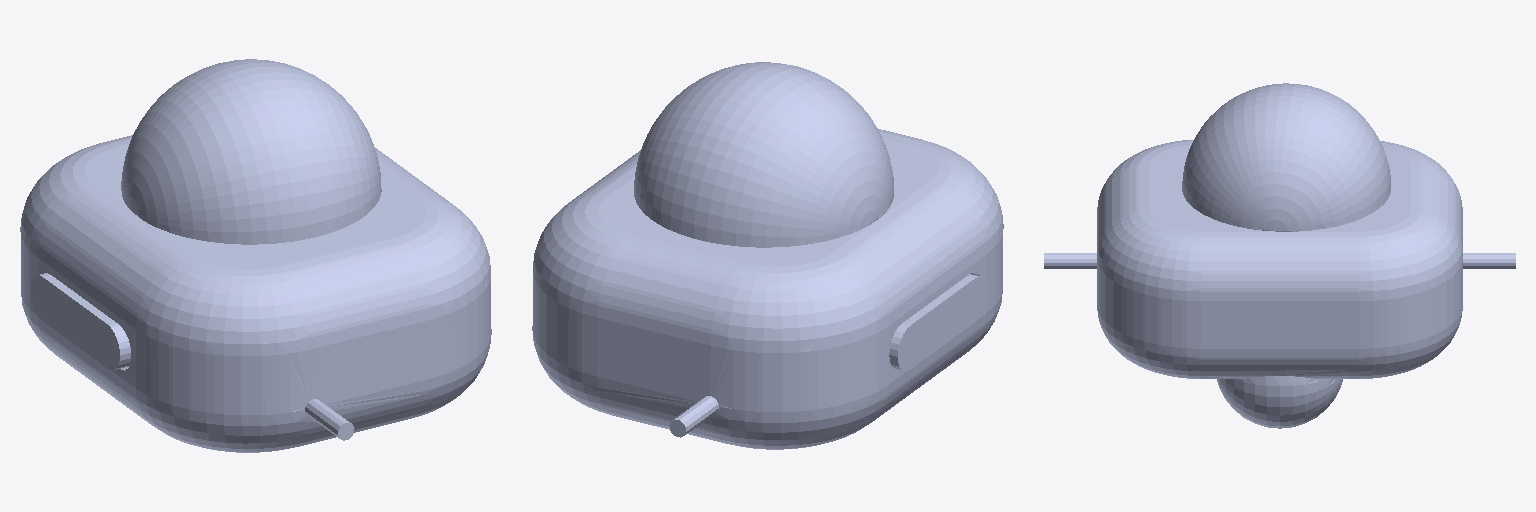
The robot description file, URDF, robot "mark_fbj4":
<?xml version="1.0" encoding="utf-8"?>
<!-- This URDF was automatically created by SolidWorks to URDF Exporter! Originally created by [author] ([email redacted]) 
     Commit Version: 1.6.0-4-g7f85cfe  Build Version: 1.6.7995.38578
     For more information, please see http://wiki.ros.org/sw_urdf_exporter -->
<robot
  name="mark_fbj4">
  <link
    name="base_link">
    <inertial>
      <origin
        xyz="-0.00238348665372786 -0.125000000553057 0.0212109386462722"
        rpy="0 0 0" />
      <mass
        value="0.884228515493409" />
      <inertia
        ixx="0.00144829165350996"
        ixy="1.60519492993308E-10"
        ixz="3.5912954700143E-05"
        iyy="0.0011482128838577"
        iyz="1.93591518860625E-11"
        izz="0.00203715547793105" />
    </inertial>
    <visual>
      <origin
        xyz="0 0 0"
        rpy="0 0 0" />
      <geometry>
        <mesh
          filename="package://mark_fbj4/meshes/base_link.STL" />
      </geometry>
      <material
        name="">
        <color
          rgba="0.792156862745098 0.819607843137255 0.933333333333333 1" />
      </material>
    </visual>
    <collision>
      <origin
        xyz="0 0 0"
        rpy="0 0 0" />
      <geometry>
        <mesh
          filename="package://mark_fbj4/meshes/base_link.STL" />
      </geometry>
    </collision>
  </link>
  <link
    name="right_wheel">
    <inertial>
      <origin
        xyz="1.38777878078145E-17 1.73472347597681E-18 -0.01"
        rpy="0 0 0" />
      <mass
        value="0.0999654782372272" />
      <inertia
        ixx="4.35432962288322E-05"
        ixy="-2.6386211656956E-37"
        ixz="-4.41162993361574E-24"
        iyy="4.35432962288322E-05"
        iyz="-4.59177480789955E-38"
        izz="8.04222272418493E-05" />
    </inertial>
    <visual>
      <origin
        xyz="0 0 0"
        rpy="0 0 0" />
      <geometry>
        <mesh
          filename="package://mark_fbj4/meshes/right_wheel.STL" />
      </geometry>
      <material
        name="">
        <color
          rgba="0.792156862745098 0.819607843137255 0.933333333333333 1" />
      </material>
    </visual>
    <collision>
      <origin
        xyz="0 0 0"
        rpy="0 0 0" />
      <geometry>
        <mesh
          filename="package://mark_fbj4/meshes/right_wheel.STL" />
      </geometry>
    </collision>
  </link>
  <joint
    name="right_wheel_joint"
    type="continuous">
    <origin
      xyz="-0.023709 -0.055 0.01262"
      rpy="1.5708 0 0" />
    <parent
      link="base_link" />
    <child
      link="right_wheel" />
    <axis
      xyz="0 0 1" />
  </joint>
  <link
    name="left_wheel">
    <inertial>
      <origin
        xyz="-3.46944695195361E-18 1.73472347597681E-18 0.00999999999999995"
        rpy="0 0 0" />
      <mass
        value="0.0999654782372272" />
      <inertia
        ixx="4.35432962288322E-05"
        ixy="-2.6386211656956E-37"
        ixz="5.60277001569247E-22"
        iyy="4.35432962288322E-05"
        iyz="-9.18354961579919E-38"
        izz="8.04222272418493E-05" />
    </inertial>
    <visual>
      <origin
        xyz="0 0 0"
        rpy="0 0 0" />
      <geometry>
        <mesh
          filename="package://mark_fbj4/meshes/left_wheel.STL" />
      </geometry>
      <material
        name="">
        <color
          rgba="0.792156862745098 0.819607843137255 0.933333333333333 1" />
      </material>
    </visual>
    <collision>
      <origin
        xyz="0 0 0"
        rpy="0 0 0" />
      <geometry>
        <mesh
          filename="package://mark_fbj4/meshes/left_wheel.STL" />
      </geometry>
    </collision>
  </link>
  <joint
    name="left_wheel_joint"
    type="continuous">
    <origin
      xyz="-0.023709 -0.195 0.01262"
      rpy="1.5708 0 0" />
    <parent
      link="base_link" />
    <child
      link="left_wheel" />
    <axis
      xyz="0 0 1" />
  </joint>
  <link
    name="sensor_link">
    <inertial>
      <origin
        xyz="0.034608 -0.040588 0.017736"
        rpy="0 0 0" />
      <mass
        value="0.077493" />
      <inertia
        ixx="4.1051E-05"
        ixy="-6.7763E-21"
        ixz="7.9302E-21"
        iyy="4.1051E-05"
        iyz="1.8696E-19"
        izz="6.5429E-05" />
    </inertial>
    <visual>
      <origin
        xyz="0 0 0"
        rpy="0 0 0" />
      <geometry>
        <mesh
          filename="package://mark_fbj4/meshes/sensor_link.STL" />
      </geometry>
      <material
        name="">
        <color
          rgba="0.79216 0.81961 0.93333 1" />
      </material>
    </visual>
    <collision>
      <origin
        xyz="0 0 0"
        rpy="0 0 0" />
      <geometry>
        <mesh
          filename="package://mark_fbj4/meshes/sensor_link.STL" />
      </geometry>
    </collision>
  </link>
  <joint
    name="sensor_link_joint"
    type="prismatic">
    <origin
      xyz="-0.033879 -0.078327 0.052577"
      rpy="0.00046163 -0.0042301 -0.1087" />
    <parent
      link="base_link" />
    <child
      link="sensor_link" />
    <axis
      xyz="0.10849 -0.9941 0" />
    <limit
      lower="0"
      upper="0"
      effort="0"
      velocity="0" />
  </joint>
  <link
    name="camera_link">
    <inertial>
      <origin
        xyz="0.0275 -0.025999 -0.00022127"
        rpy="0 0 0" />
      <mass
        value="0.0062137" />
      <inertia
        ixx="1.4302E-07"
        ixy="-1.596E-23"
        ixz="2.541E-22"
        iyy="1.5152E-06"
        iyz="6.5306E-10"
        izz="1.4385E-06" />
    </inertial>
    <visual>
      <origin
        xyz="0 0 0"
        rpy="0 0 0" />
      <geometry>
        <mesh
          filename="package://mark_fbj4/meshes/camera_link.STL" />
      </geometry>
      <material
        name="">
        <color
          rgba="0.79216 0.81961 0.93333 1" />
      </material>
    </visual>
    <collision>
      <origin
        xyz="0 0 0"
        rpy="0 0 0" />
      <geometry>
        <mesh
          filename="package://mark_fbj4/meshes/camera_link.STL" />
      </geometry>
    </collision>
  </link>
  <joint
    name="camera_link_joint"
    type="prismatic">
    <origin
      xyz="-0.088751 -0.095601 0.022343"
      rpy="3.1373 0 -1.5708" />
    <parent
      link="base_link" />
    <child
      link="camera_link" />
    <axis
      xyz="1 0 0" />
    <limit
      lower="0"
      upper="0"
      effort="0"
      velocity="0" />
  </joint>
</robot>

--- What the picture shows (computed from the rendered views, not written in the file) ---
The picture shows the robot from 3 angles, left to right: view 1: azimuth 30°, elevation 25°; view 2: azimuth 150°, elevation 25°; view 3: azimuth 270°, elevation 25°; orthographic projection.
Model mark_fbj4 with 5 links and 4 joints (2 continuous, 2 prismatic), rooted at base_link, posed every joint at zero.
Visible links, largest first — view 1: base_link, sensor_link, camera_link; view 2: base_link, sensor_link, camera_link; view 3: base_link, sensor_link.
Boxes of the visible links, bbox=[...] form: base_link: bbox=[20, 135, 491, 452]; sensor_link: bbox=[121, 59, 381, 244]; camera_link: bbox=[30, 273, 130, 369]; base_link: bbox=[532, 129, 1003, 449]; sensor_link: bbox=[634, 62, 893, 247]; camera_link: bbox=[889, 274, 986, 371]; base_link: bbox=[1044, 140, 1515, 428]; sensor_link: bbox=[1182, 83, 1390, 231].
Size in the robot's own frame: 0.1231 by 0.18 by 0.1247 metres.
3 mesh visuals loaded from 5 distinct referenced files (3 binary STL); not drawn: 2 (reference not matched to a file when rendering).
